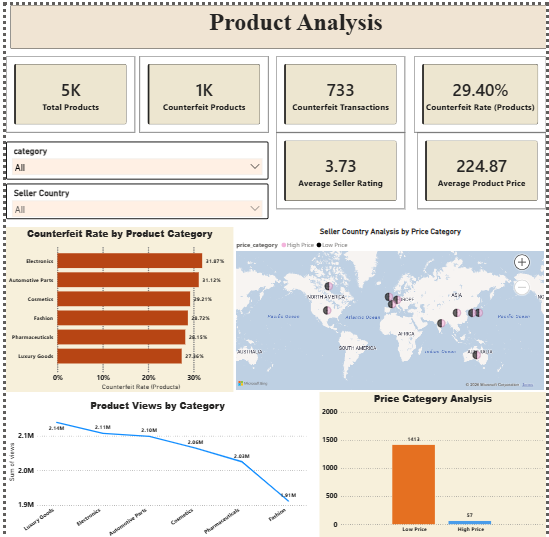

The page's visual inventory and layout, read from the dashboard file:
{"tool":"powerbi","page":{"name":"Product Analysis","canvas":[1200,1200],"ordinal":1},"visuals":[{"type":"textbox","box":[9.6,0,1269.8,97.5],"z":0},{"type":"cardVisual","fields":{"Data":["product.Total Products"]},"box":[0,114.2,286.8,170.1],"z":1000},{"type":"cardVisual","fields":{"Data":["product.Counterfeit Products"]},"box":[296.5,114.2,286.8,170.1],"z":2000},{"type":"cardVisual","fields":{"Data":["product.Counterfeit Rate (Products)"]},"box":[906.4,114.2,294,170.1],"z":3000},{"type":"cardVisual","fields":{"Data":["transcation.Counterfeit Transactions"]},"box":[600.2,114.2,286.8,170.1],"z":4000},{"type":"cardVisual","fields":{"Data":["product.Average Seller Rating"]},"box":[600.2,284.3,286.8,170.1],"z":5000},{"type":"cardVisual","fields":{"Data":["product.Average Product Price"]},"box":[913.7,284.3,286.8,170.1],"z":6000},{"type":"clusteredBarChart","title":"Counterfeit Rate by Product Category","fields":{"Y":["product.Counterfeit Rate (Products)"],"Category":["product.category"]},"box":[0,493.3,505.5,366.9],"z":7000},{"type":"columnChart","title":"Price Category Analysis","fields":{"Category":["product.price_category"],"Y":["product.Counterfeit Product Count"]},"box":[697.2,858.9,503.7,323.4],"z":9000},{"type":"map","title":"Seller Country Analysis by Price Category","fields":{"Category":["product.seller_country"],"Series":["product.price_category"]},"box":[505.5,493.3,695,366.9],"z":10000},{"type":"slicer","fields":{"Values":["product.category"]},"box":[0,302.2,583.2,84.8],"z":11000},{"type":"slicer","fields":{"Values":["product.seller_country"]},"box":[0,395,583.2,79.5],"z":13000},{"type":"lineChart","title":"Product Views by Category","fields":{"Category":["product.category"],"Y":["Sum(product.views)"]},"box":[0,877.5,673.4,323.4],"z":13001}]}

Visuals, with their boxes in screenshot pixels (x1, y1, x2, y2), scaled from the page's 1200x1200 canvas onto the 549x537 screenshot:
textbox: bbox=[4, 0, 548, 44]
cardVisual - product.Total Products: bbox=[0, 51, 131, 127]
cardVisual - product.Counterfeit Products: bbox=[136, 51, 267, 127]
cardVisual - product.Counterfeit Rate (Products): bbox=[415, 51, 548, 127]
cardVisual - transcation.Counterfeit Transactions: bbox=[275, 51, 406, 127]
cardVisual - product.Average Seller Rating: bbox=[275, 127, 406, 203]
cardVisual - product.Average Product Price: bbox=[418, 127, 548, 203]
"Counterfeit Rate by Product Category" clusteredBarChart: bbox=[0, 221, 231, 385]
"Price Category Analysis" columnChart: bbox=[319, 384, 548, 529]
"Seller Country Analysis by Price Category" map: bbox=[231, 221, 548, 385]
slicer - product.category: bbox=[0, 135, 267, 173]
slicer - product.seller_country: bbox=[0, 177, 267, 212]
"Product Views by Category" lineChart: bbox=[0, 393, 308, 536]
